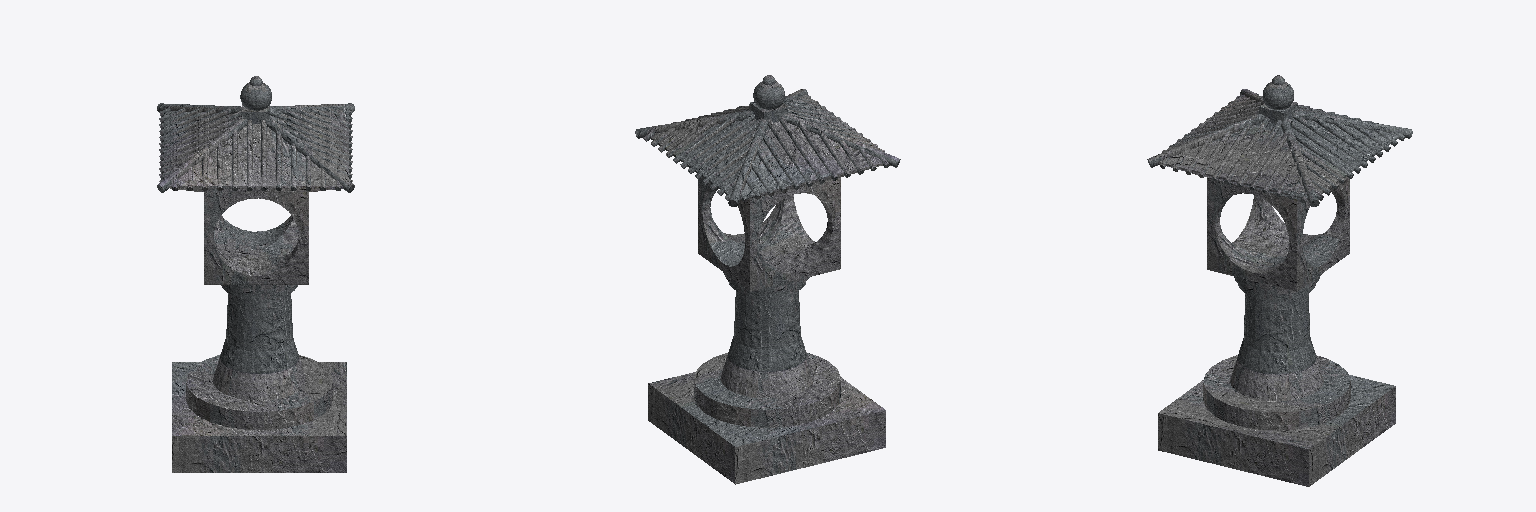
3 renders of one model, left to right at view 1: azimuth 30°, elevation 25°; view 2: azimuth 150°, elevation 25°; view 3: azimuth 270°, elevation 25°, orthographic.
Visible parts, largest first — view 1: Obj3d66-648991-86-27_网格.250; view 2: Obj3d66-648991-86-27_网格.250; view 3: Obj3d66-648991-86-27_网格.250.
Boxes of the visible parts, x1=… form: Obj3d66-648991-86-27_网格.250: x1=157, y1=76, x2=354, y2=472; Obj3d66-648991-86-27_网格.250: x1=635, y1=75, x2=900, y2=484; Obj3d66-648991-86-27_网格.250: x1=1147, y1=75, x2=1412, y2=486.
Size of the model in its own units: 1.01 by 1.52 by 1.01.
Materials: 1 (1 with a texture image).